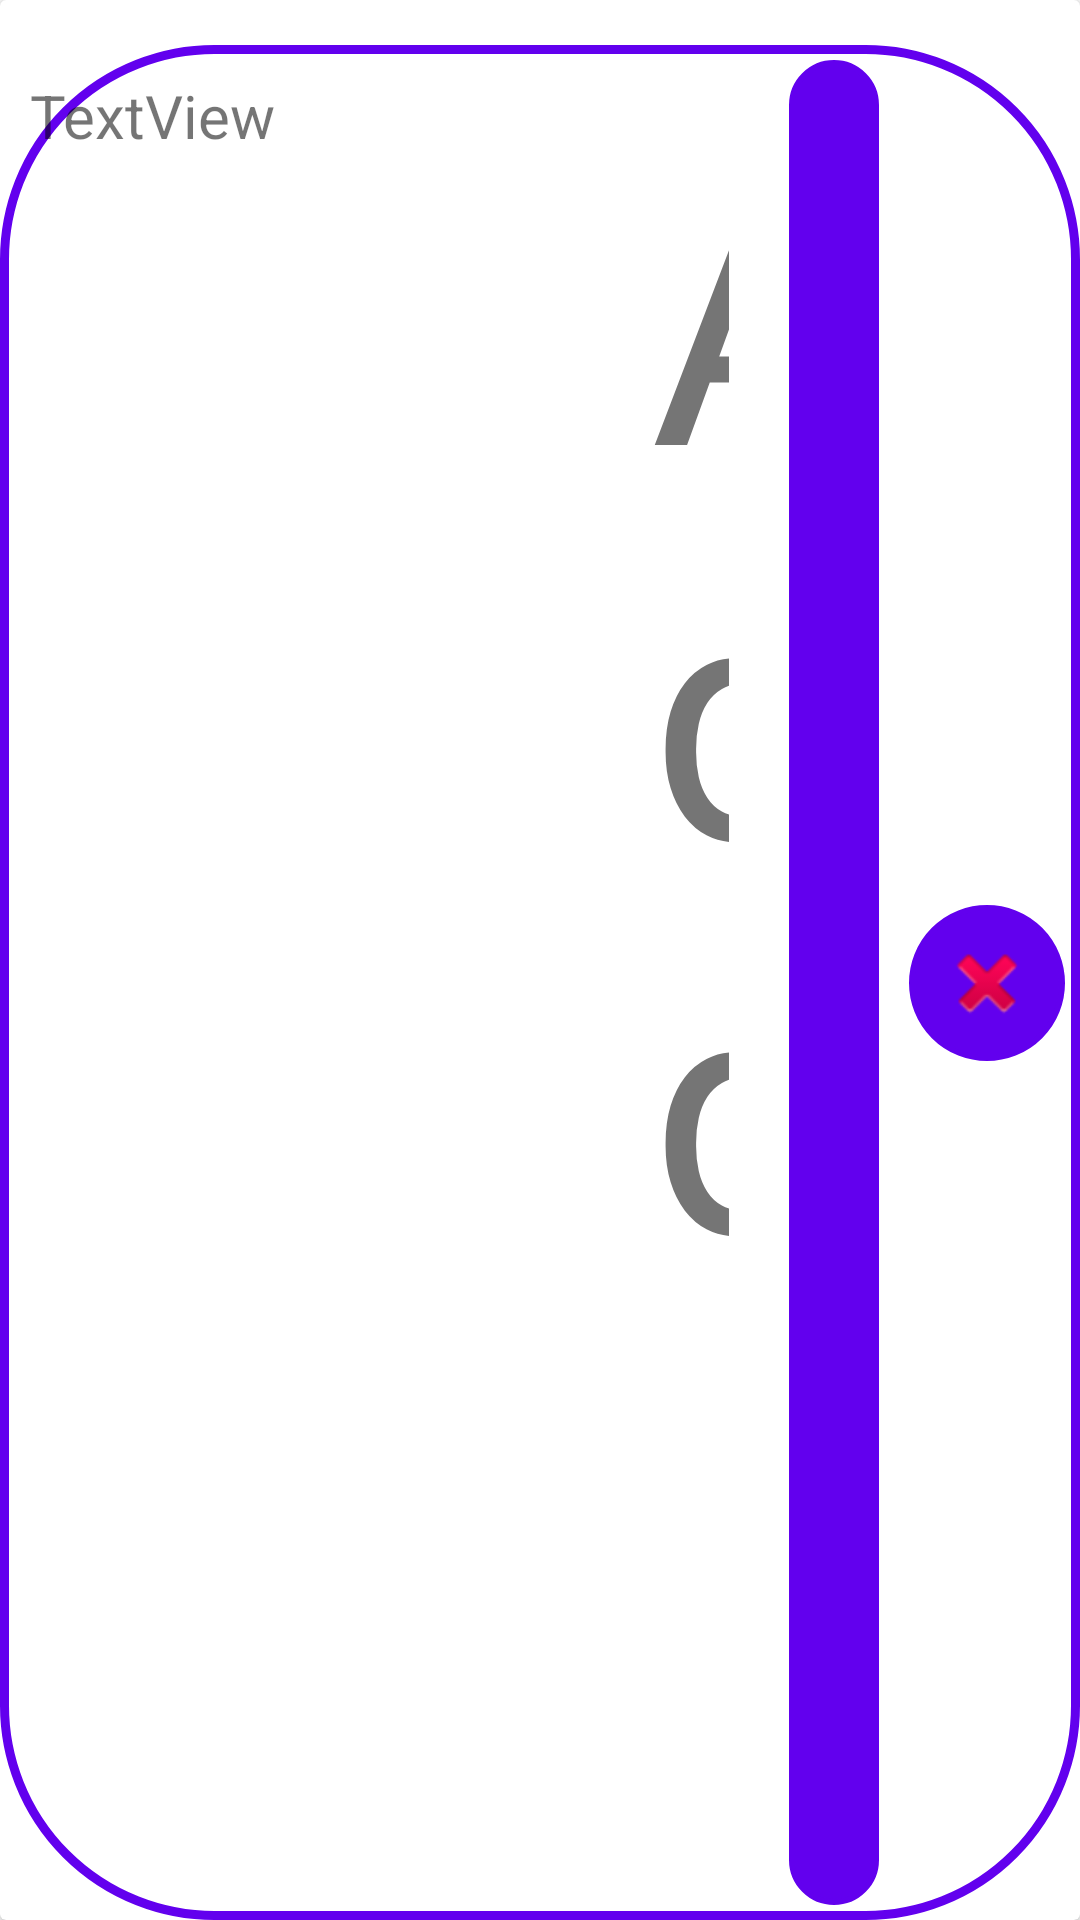

Named icons in this screenshot (1080x1920) and their bounding boxes, (x1, y1, x2, y2):
delete: (909, 905, 1065, 1061)
